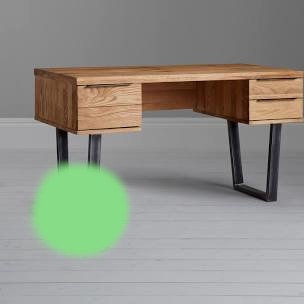focus: (29, 156, 135, 257)
